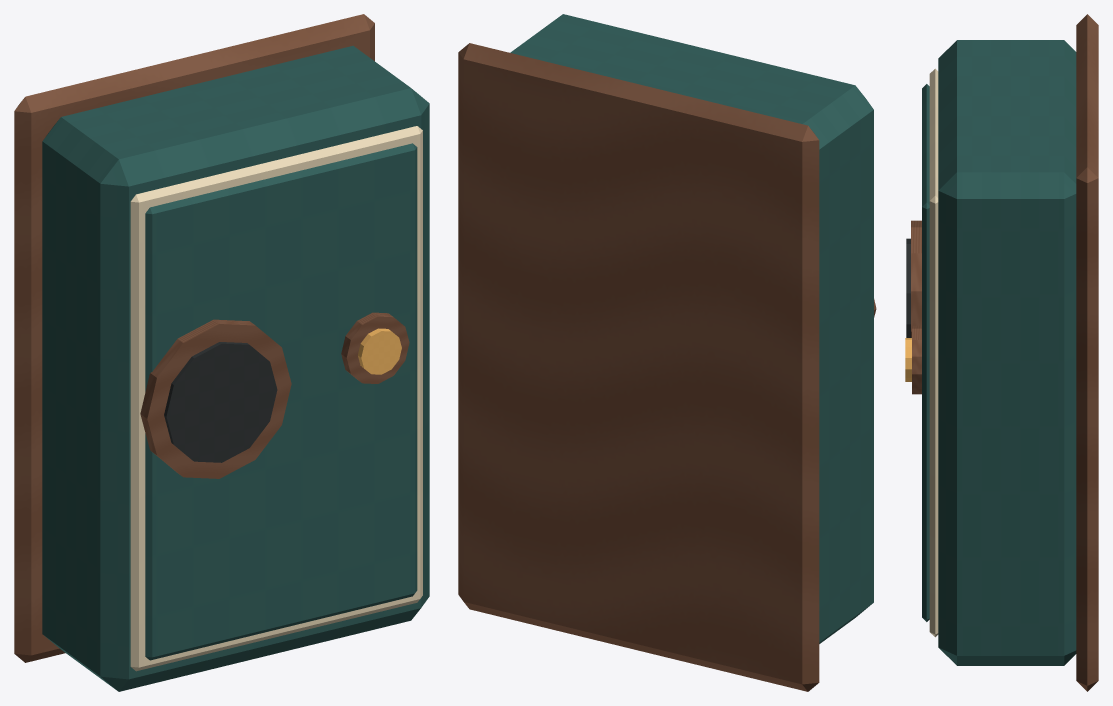
Rendered from P14_atlas_v1.glb.
The picture shows the model from 3 angles, left to right: view 1: azimuth 30°, elevation 25°; view 2: azimuth 150°, elevation 25°; view 3: azimuth 270°, elevation 25°; orthographic projection. The views are drawn at different scales.
Visible parts, largest first — view 1: P14_StaticBody, P14_Socket, P14_StatusInsert; view 2: P14_StaticBody; view 3: P14_StaticBody, P14_Socket.
Part boxes in pixels (box(x1,y1,x2,y2)): P14_StaticBody: box(14, 14, 429, 691); P14_Socket: box(140, 319, 291, 478); P14_StatusInsert: box(358, 328, 401, 374); P14_StaticBody: box(458, 14, 873, 691); P14_StaticBody: box(912, 14, 1098, 691); P14_Socket: box(906, 220, 921, 337).
Size of the model in its own units: 2 by 3 by 1.
1 material, 1 textured.
